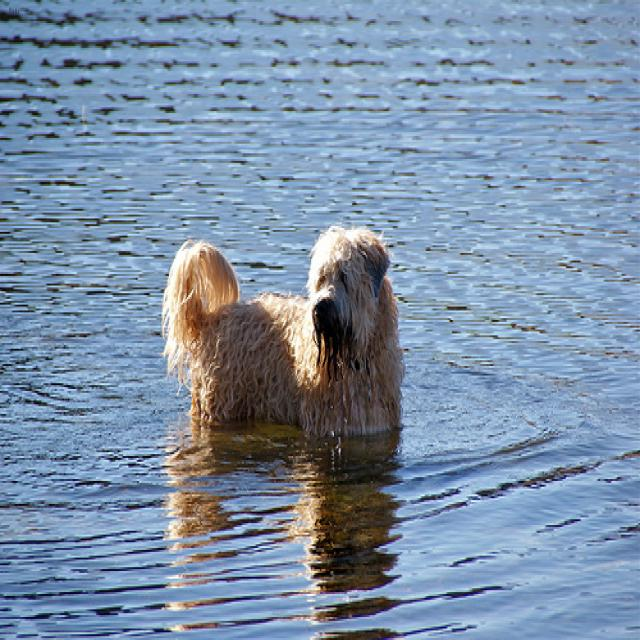dog-wheaten_terrier: (155, 215, 410, 441)
